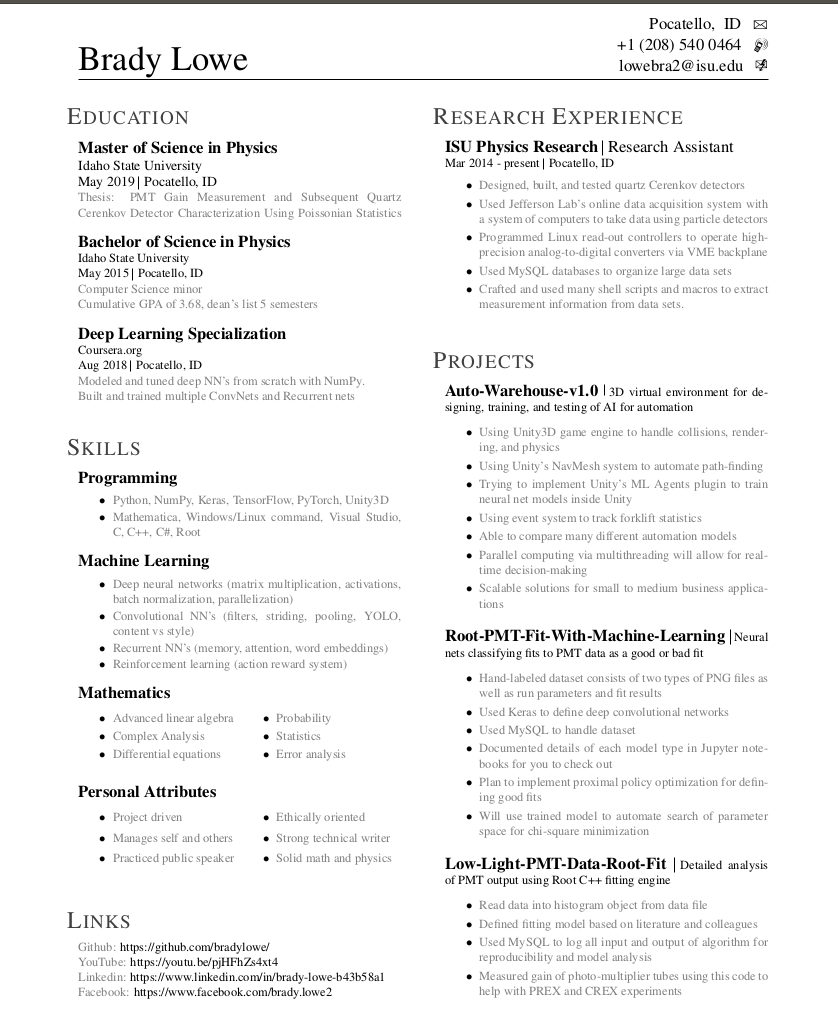bullet: (458, 195, 769, 228), (458, 171, 751, 196)
section: (56, 434, 417, 875), (55, 99, 416, 424), (425, 343, 771, 617), (429, 100, 777, 333), (439, 621, 777, 841)
word: (77, 43, 161, 79), (167, 43, 250, 73), (643, 12, 717, 35), (273, 708, 334, 729), (476, 176, 530, 194), (273, 727, 325, 745), (529, 176, 560, 194), (720, 10, 742, 33), (558, 175, 581, 194)
